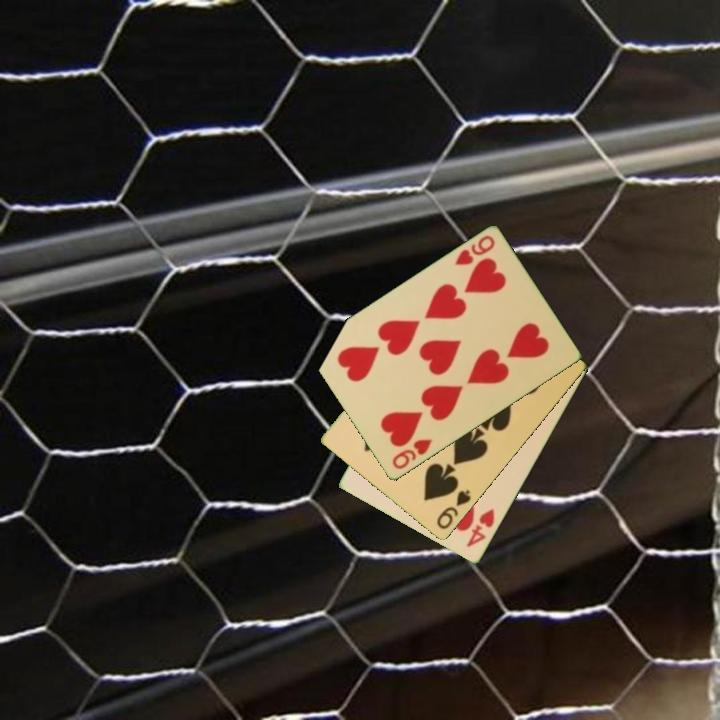4h: (463, 505, 498, 550)
9h: (388, 436, 435, 473), (451, 232, 498, 269)
9s: (433, 487, 474, 533)
